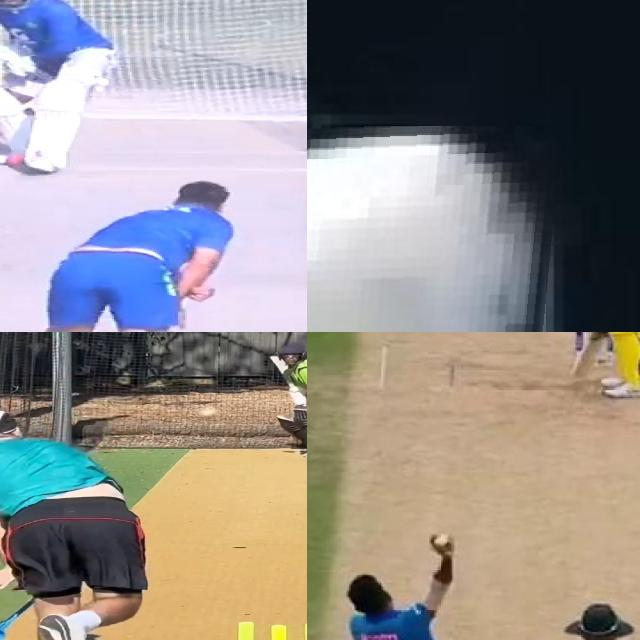Cricket ball: (307, 126, 564, 332), (3, 153, 28, 168), (434, 533, 451, 549), (199, 408, 220, 420)
